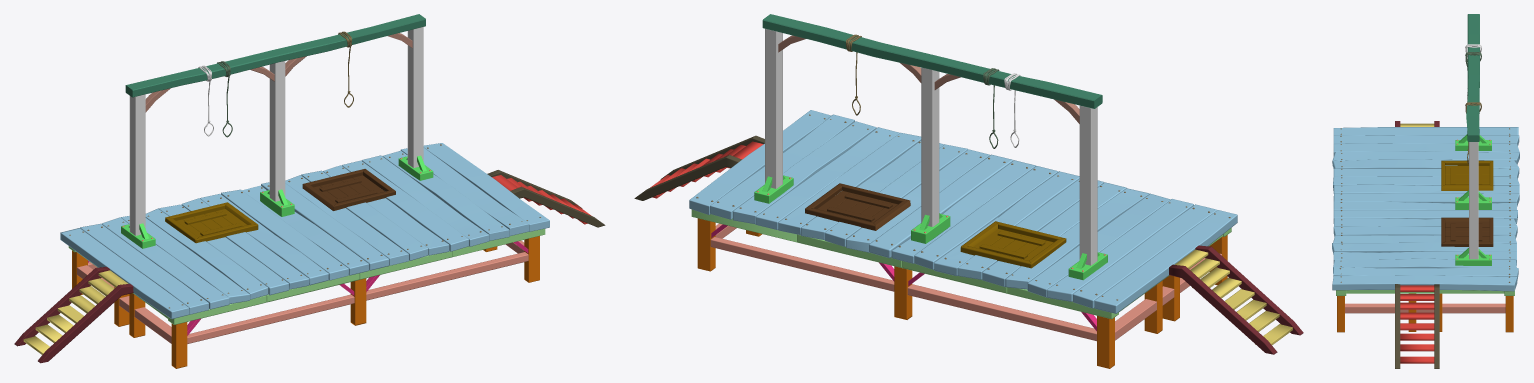
File: Gallows_lp.fbx
3 renders of one model, left to right at view 1: azimuth 30°, elevation 25°; view 2: azimuth 150°, elevation 25°; view 3: azimuth 270°, elevation 25°, orthographic. The views are drawn at different scales.
Parts seen in each view (by area): view 1: Wood_Planks_lp, Gallow_Beams_Vert_lp, Gallow_Secondary_Supports_lp, Gallow_Beam_Horiz_lp, Gallows_Planks_Supports_lp, Gallow_Planks_Lower_lp, Gallows_Trap_Doors_lp.001, Gallows_Trap_Doors_lp, Stairs_lp.002, Stairs_lp.001, Gallow_Beams_Support_Blocks_lp, Stairs_lp.003 (+2 smaller); view 2: Wood_Planks_lp, Gallow_Beams_Vert_lp, Gallow_Secondary_Supports_lp, Gallow_Beam_Horiz_lp, Gallows_Planks_Supports_lp, Gallow_Planks_Lower_lp, Gallows_Trap_Doors_lp.001, Gallows_Trap_Doors_lp, Stairs_lp.002, Stairs_lp.001, Gallow_Beams_Support_Blocks_lp, Stairs_lp.003 (+2 smaller); view 3: Wood_Planks_lp, Stairs_lp, Gallow_Beam_Horiz_lp, Gallow_Secondary_Supports_lp, Gallows_Trap_Doors_lp, Gallows_Trap_Doors_lp.001, Gallow_Beams_Support_Blocks_lp, Gallow_Beams_Vert_lp, Stairs_lp.003, Gallows_Planks_Supports_lp, Gallow_Planks_Lower_lp, Wood_Plank_Bolts_lp.
Part boxes in pixels (bbox=[...]): Wood_Planks_lp: bbox=[60, 143, 549, 318]; Gallow_Beams_Vert_lp: bbox=[129, 27, 423, 235]; Gallow_Secondary_Supports_lp: bbox=[77, 240, 528, 343]; Gallow_Beam_Horiz_lp: bbox=[125, 14, 425, 97]; Gallows_Planks_Supports_lp: bbox=[72, 236, 539, 368]; Gallow_Planks_Lower_lp: bbox=[68, 228, 545, 324]; Gallows_Trap_Doors_lp.001: bbox=[302, 169, 395, 210]; Gallows_Trap_Doors_lp: bbox=[165, 202, 258, 243]; Stairs_lp.002: bbox=[14, 267, 133, 363]; Stairs_lp.001: bbox=[23, 270, 128, 354]; Gallow_Beams_Support_Blocks_lp: bbox=[121, 155, 433, 248]; Stairs_lp.003: bbox=[487, 170, 605, 227]; Wood_Planks_lp: bbox=[689, 110, 1237, 313]; Gallow_Beams_Vert_lp: bbox=[765, 28, 1097, 265]; Gallow_Secondary_Supports_lp: bbox=[710, 223, 1221, 341]; Gallow_Beam_Horiz_lp: bbox=[762, 14, 1102, 108]; Gallows_Planks_Supports_lp: bbox=[697, 218, 1227, 368]; Gallow_Planks_Lower_lp: bbox=[691, 208, 1231, 319]; Gallows_Trap_Doors_lp.001: bbox=[805, 183, 910, 230]; Gallows_Trap_Doors_lp: bbox=[960, 221, 1066, 268]; Stairs_lp.002: bbox=[1169, 245, 1303, 354]; Stairs_lp.001: bbox=[1174, 249, 1292, 344]; Gallow_Beams_Support_Blocks_lp: bbox=[754, 175, 1107, 280]; Stairs_lp.003: bbox=[634, 135, 764, 200]; Wood_Planks_lp: bbox=[1332, 127, 1519, 291]; Stairs_lp: bbox=[1400, 285, 1434, 363]; Gallow_Beam_Horiz_lp: bbox=[1466, 14, 1479, 141]; Gallow_Secondary_Supports_lp: bbox=[1345, 303, 1505, 313]; Gallows_Trap_Doors_lp: bbox=[1441, 160, 1493, 190]; Gallows_Trap_Doors_lp.001: bbox=[1441, 217, 1493, 246]; Gallow_Beams_Support_Blocks_lp: bbox=[1455, 134, 1491, 265]; Gallow_Beams_Vert_lp: bbox=[1469, 142, 1478, 259]; Stairs_lp.003: bbox=[1395, 284, 1439, 368]; Gallows_Planks_Supports_lp: bbox=[1337, 293, 1513, 332]; Gallow_Planks_Lower_lp: bbox=[1336, 290, 1514, 295]; Wood_Plank_Bolts_lp: bbox=[1339, 128, 1510, 282].
Bounding box in the file's own units: 10387 × 3781 × 3524.
